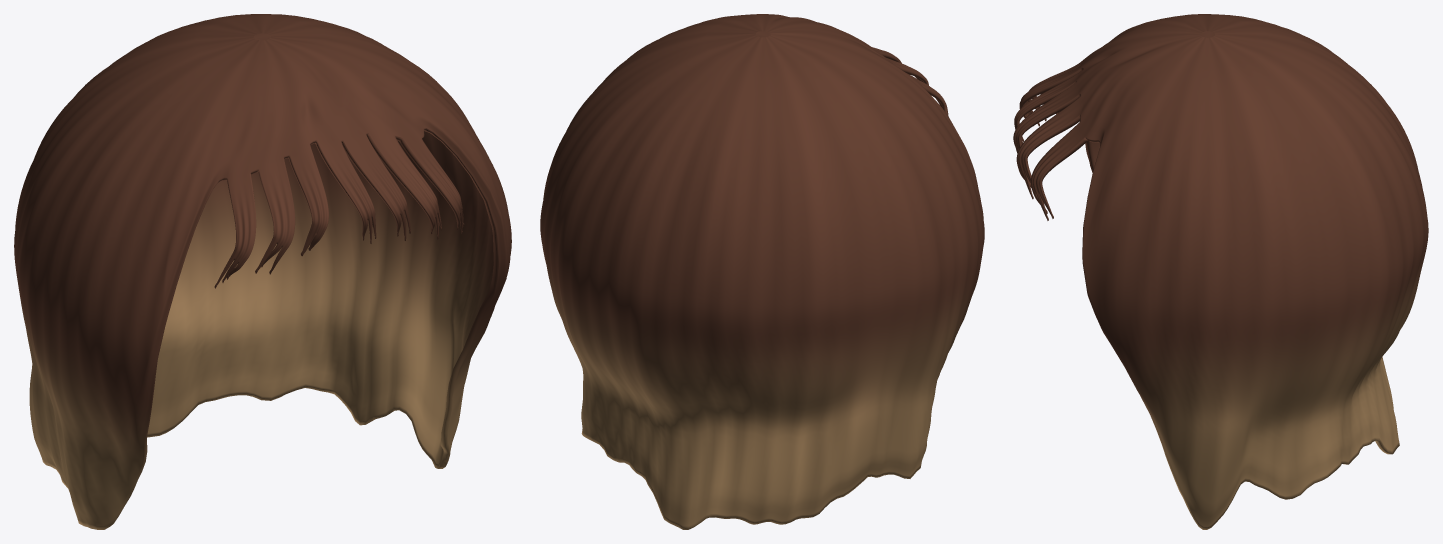
The model's file is side-sweep-none-ombre.glb.
3 renders of one model, left to right at view 1: azimuth 30°, elevation 25°; view 2: azimuth 150°, elevation 25°; view 3: azimuth 270°, elevation 25°, orthographic. The views are drawn at different scales.
Visible parts, largest first — view 1: Wispy bangs / continuous crown; view 2: Wispy bangs / continuous crown; view 3: Wispy bangs / continuous crown.
Boxes of the visible parts, <box> form: Wispy bangs / continuous crown: <box>14,14,511,529</box>; Wispy bangs / continuous crown: <box>540,14,984,529</box>; Wispy bangs / continuous crown: <box>1013,14,1428,529</box>.
Bounding box in the file's own units: 0.8388 × 0.8786 × 0.788.
